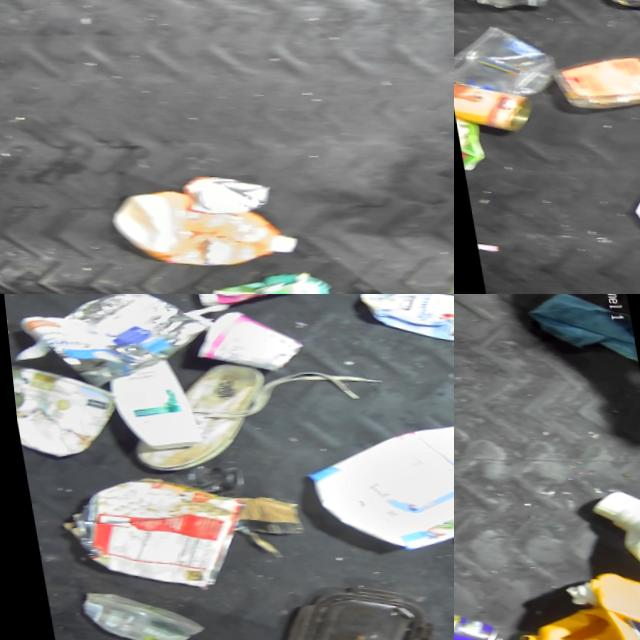can: (168, 167, 261, 215), (454, 79, 535, 132)
milk_jug: (287, 404, 454, 560), (581, 477, 640, 574)
non_white_jug: (42, 465, 251, 598), (93, 175, 290, 272), (496, 554, 640, 640), (528, 44, 640, 121), (350, 294, 454, 345), (188, 259, 323, 294)
